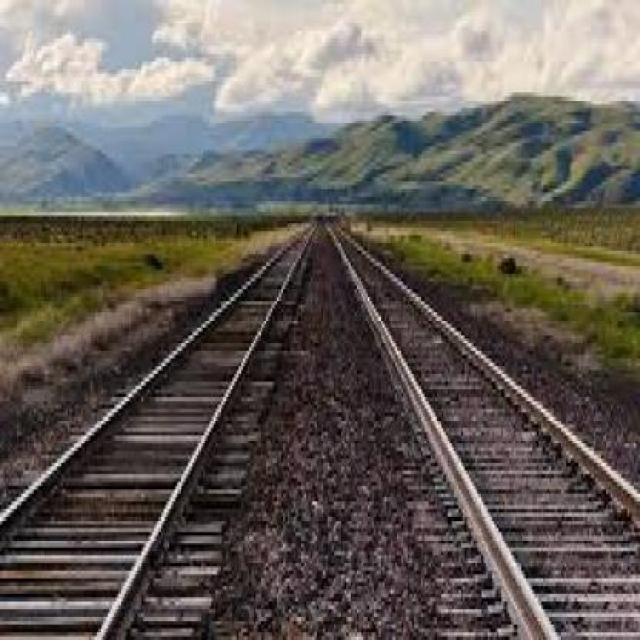rail: (0, 201, 638, 640)
